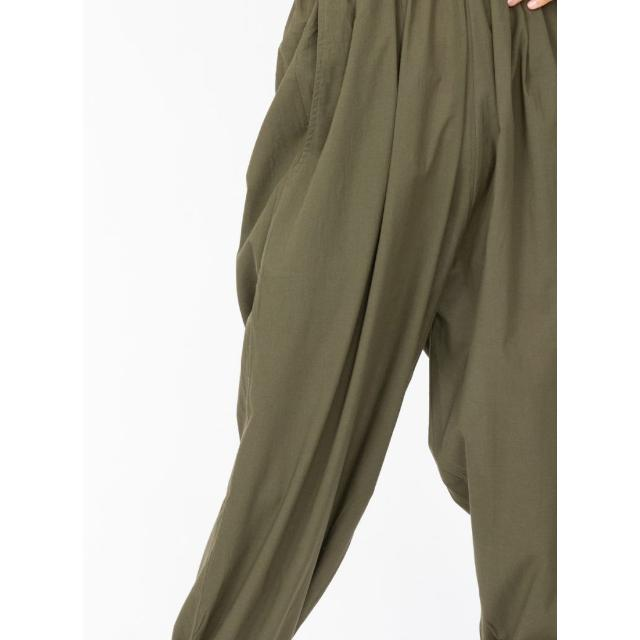cotton: (171, 0, 557, 640)
